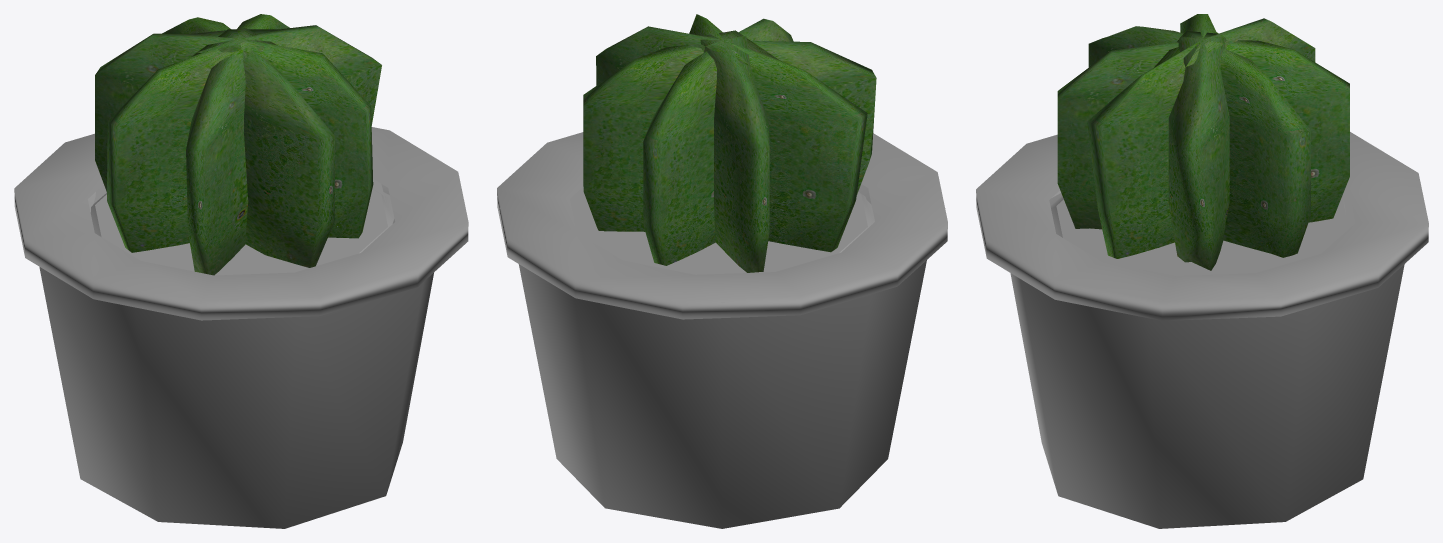
The model's file is Cactus_lod1.fbx.
3 renders of one model, left to right at view 1: azimuth 30°, elevation 25°; view 2: azimuth 150°, elevation 25°; view 3: azimuth 270°, elevation 25°, orthographic.
Visible parts, largest first — view 1: Cactus_lod1; view 2: Cactus_lod1; view 3: Cactus_lod1.
Boxes of the visible parts, x1,y1,x2,y2 form: Cactus_lod1: [14, 14, 468, 528]; Cactus_lod1: [497, 14, 947, 528]; Cactus_lod1: [976, 14, 1428, 528].
Size of the model in its own units: 21.98 by 23.36 by 21.98.
Materials: 2 (1 with a texture image).
